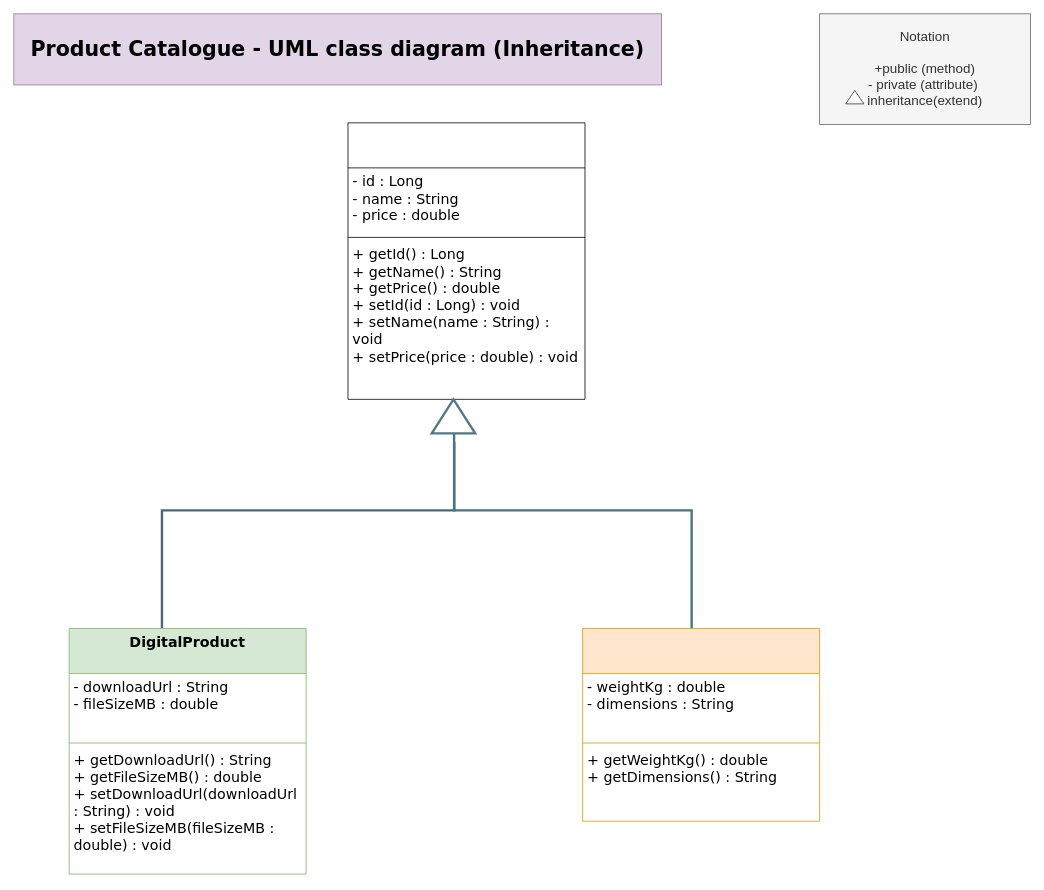
The diagram is 1044 pixels wide and 890 high, and some of its shapes have lost their labels. Here are the shapes that lost their labels. From the top down, the box of each, then its label:
(347, 122, 585, 399): Product
(582, 628, 820, 821): PhysicalProduct
